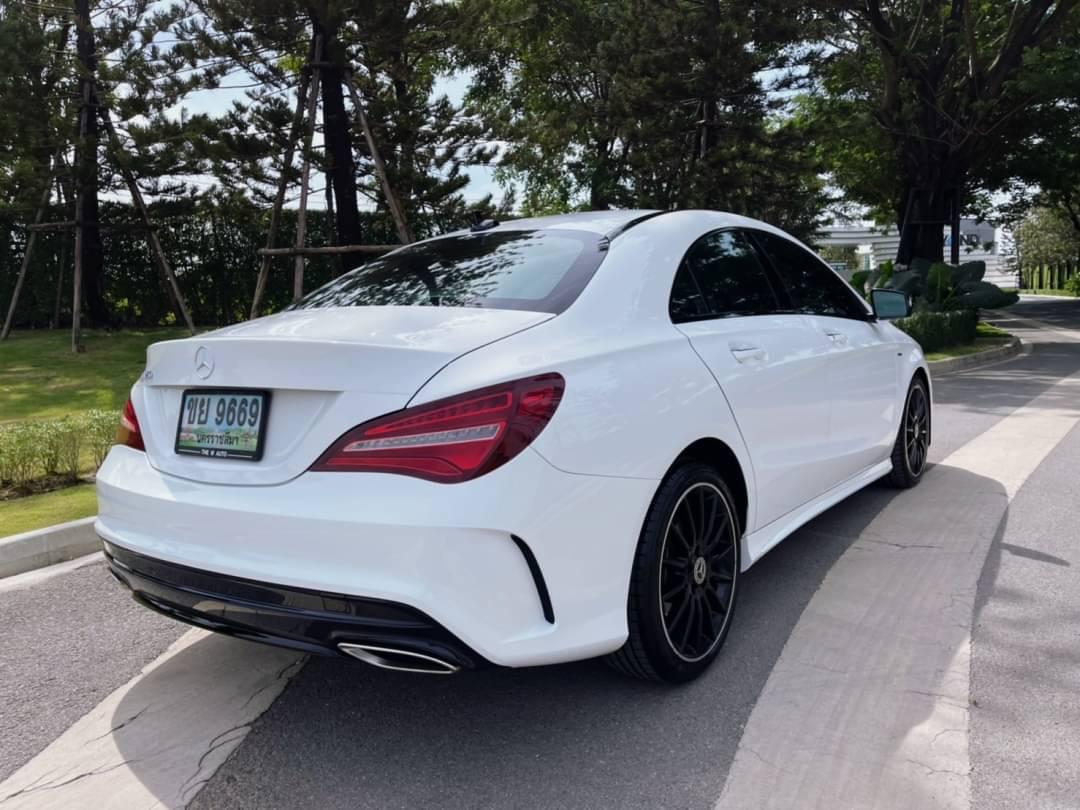license-plate: (177, 386, 266, 458)
